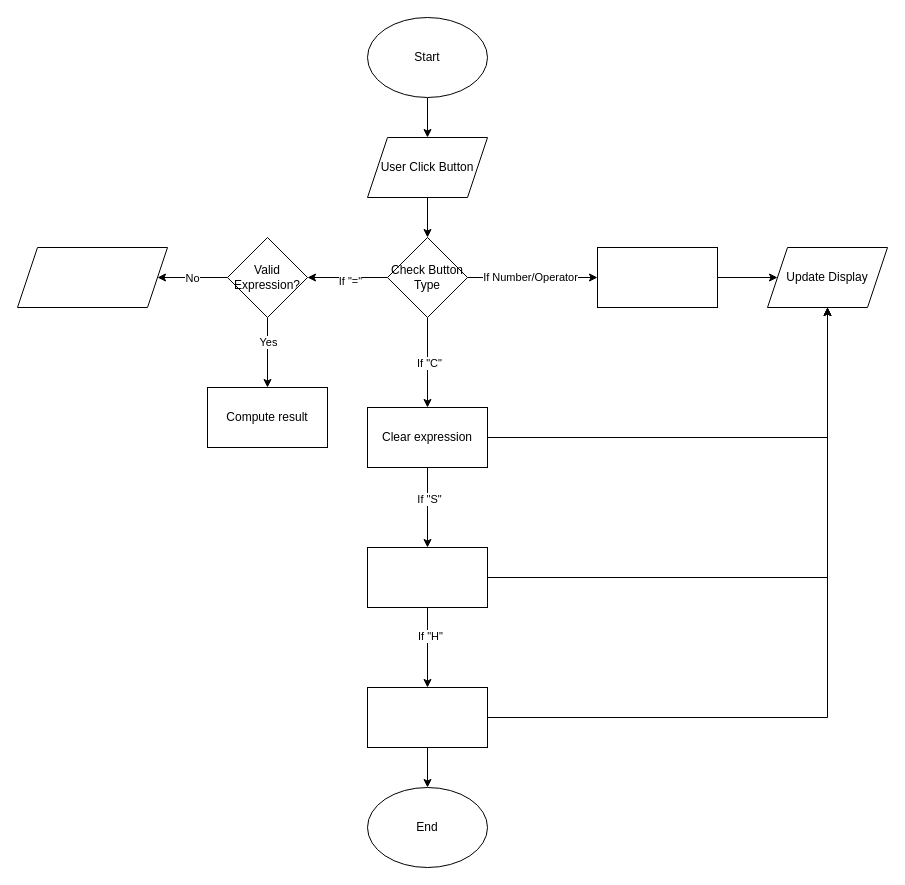
This 905x885 diagram has some shape labels left out. The shapes that lost their labels are listed below. From the top down, each one's centre as x and y in pixels, then its label:
At pixel 92 277: "Show Error Message".
At pixel 657 277: "Add to expression".
At pixel 427 577: "Scientific Calc Mode".
At pixel 427 717: "Show Calc History".
